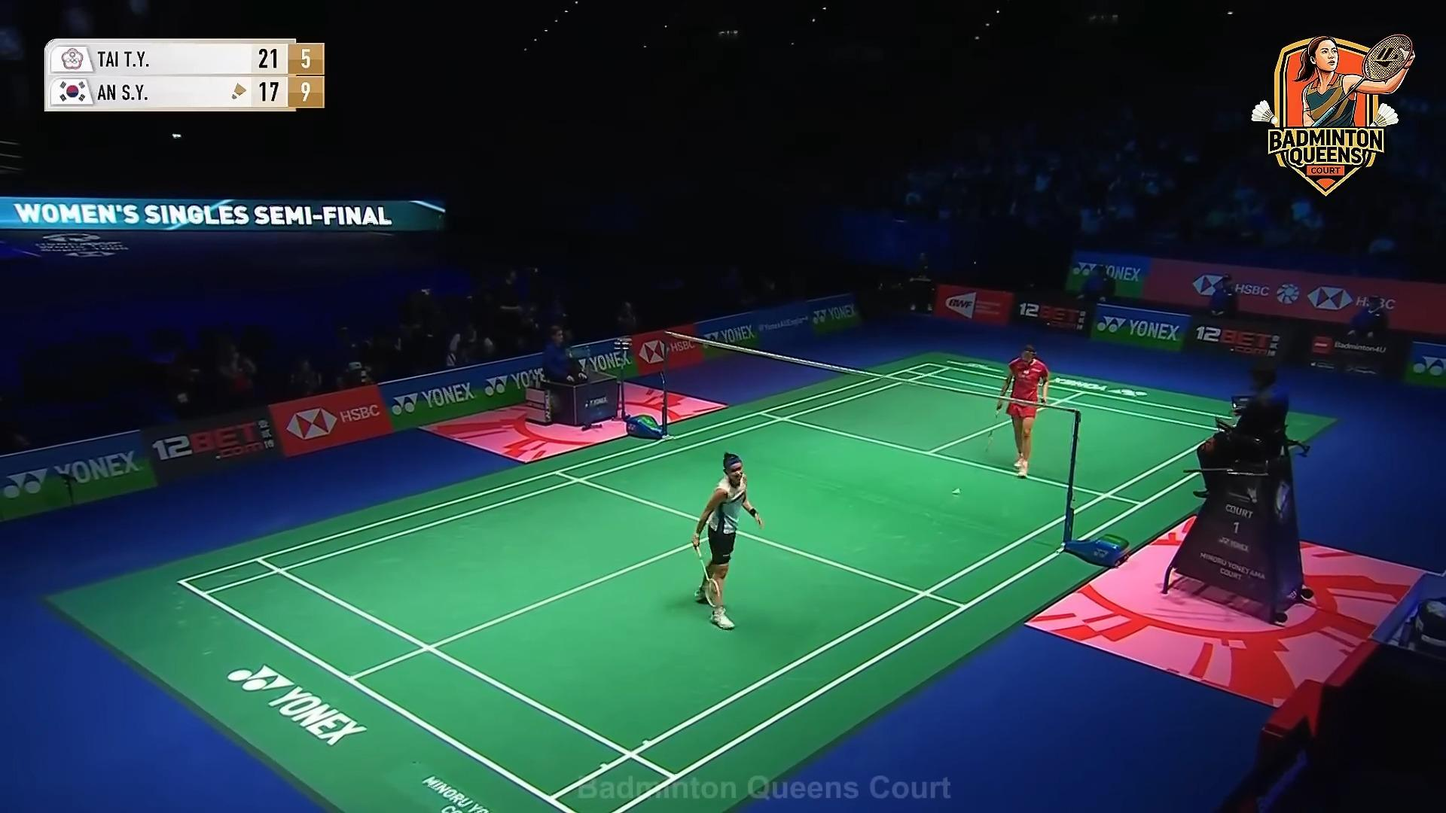player: (692, 454, 763, 630), (999, 343, 1048, 481)
